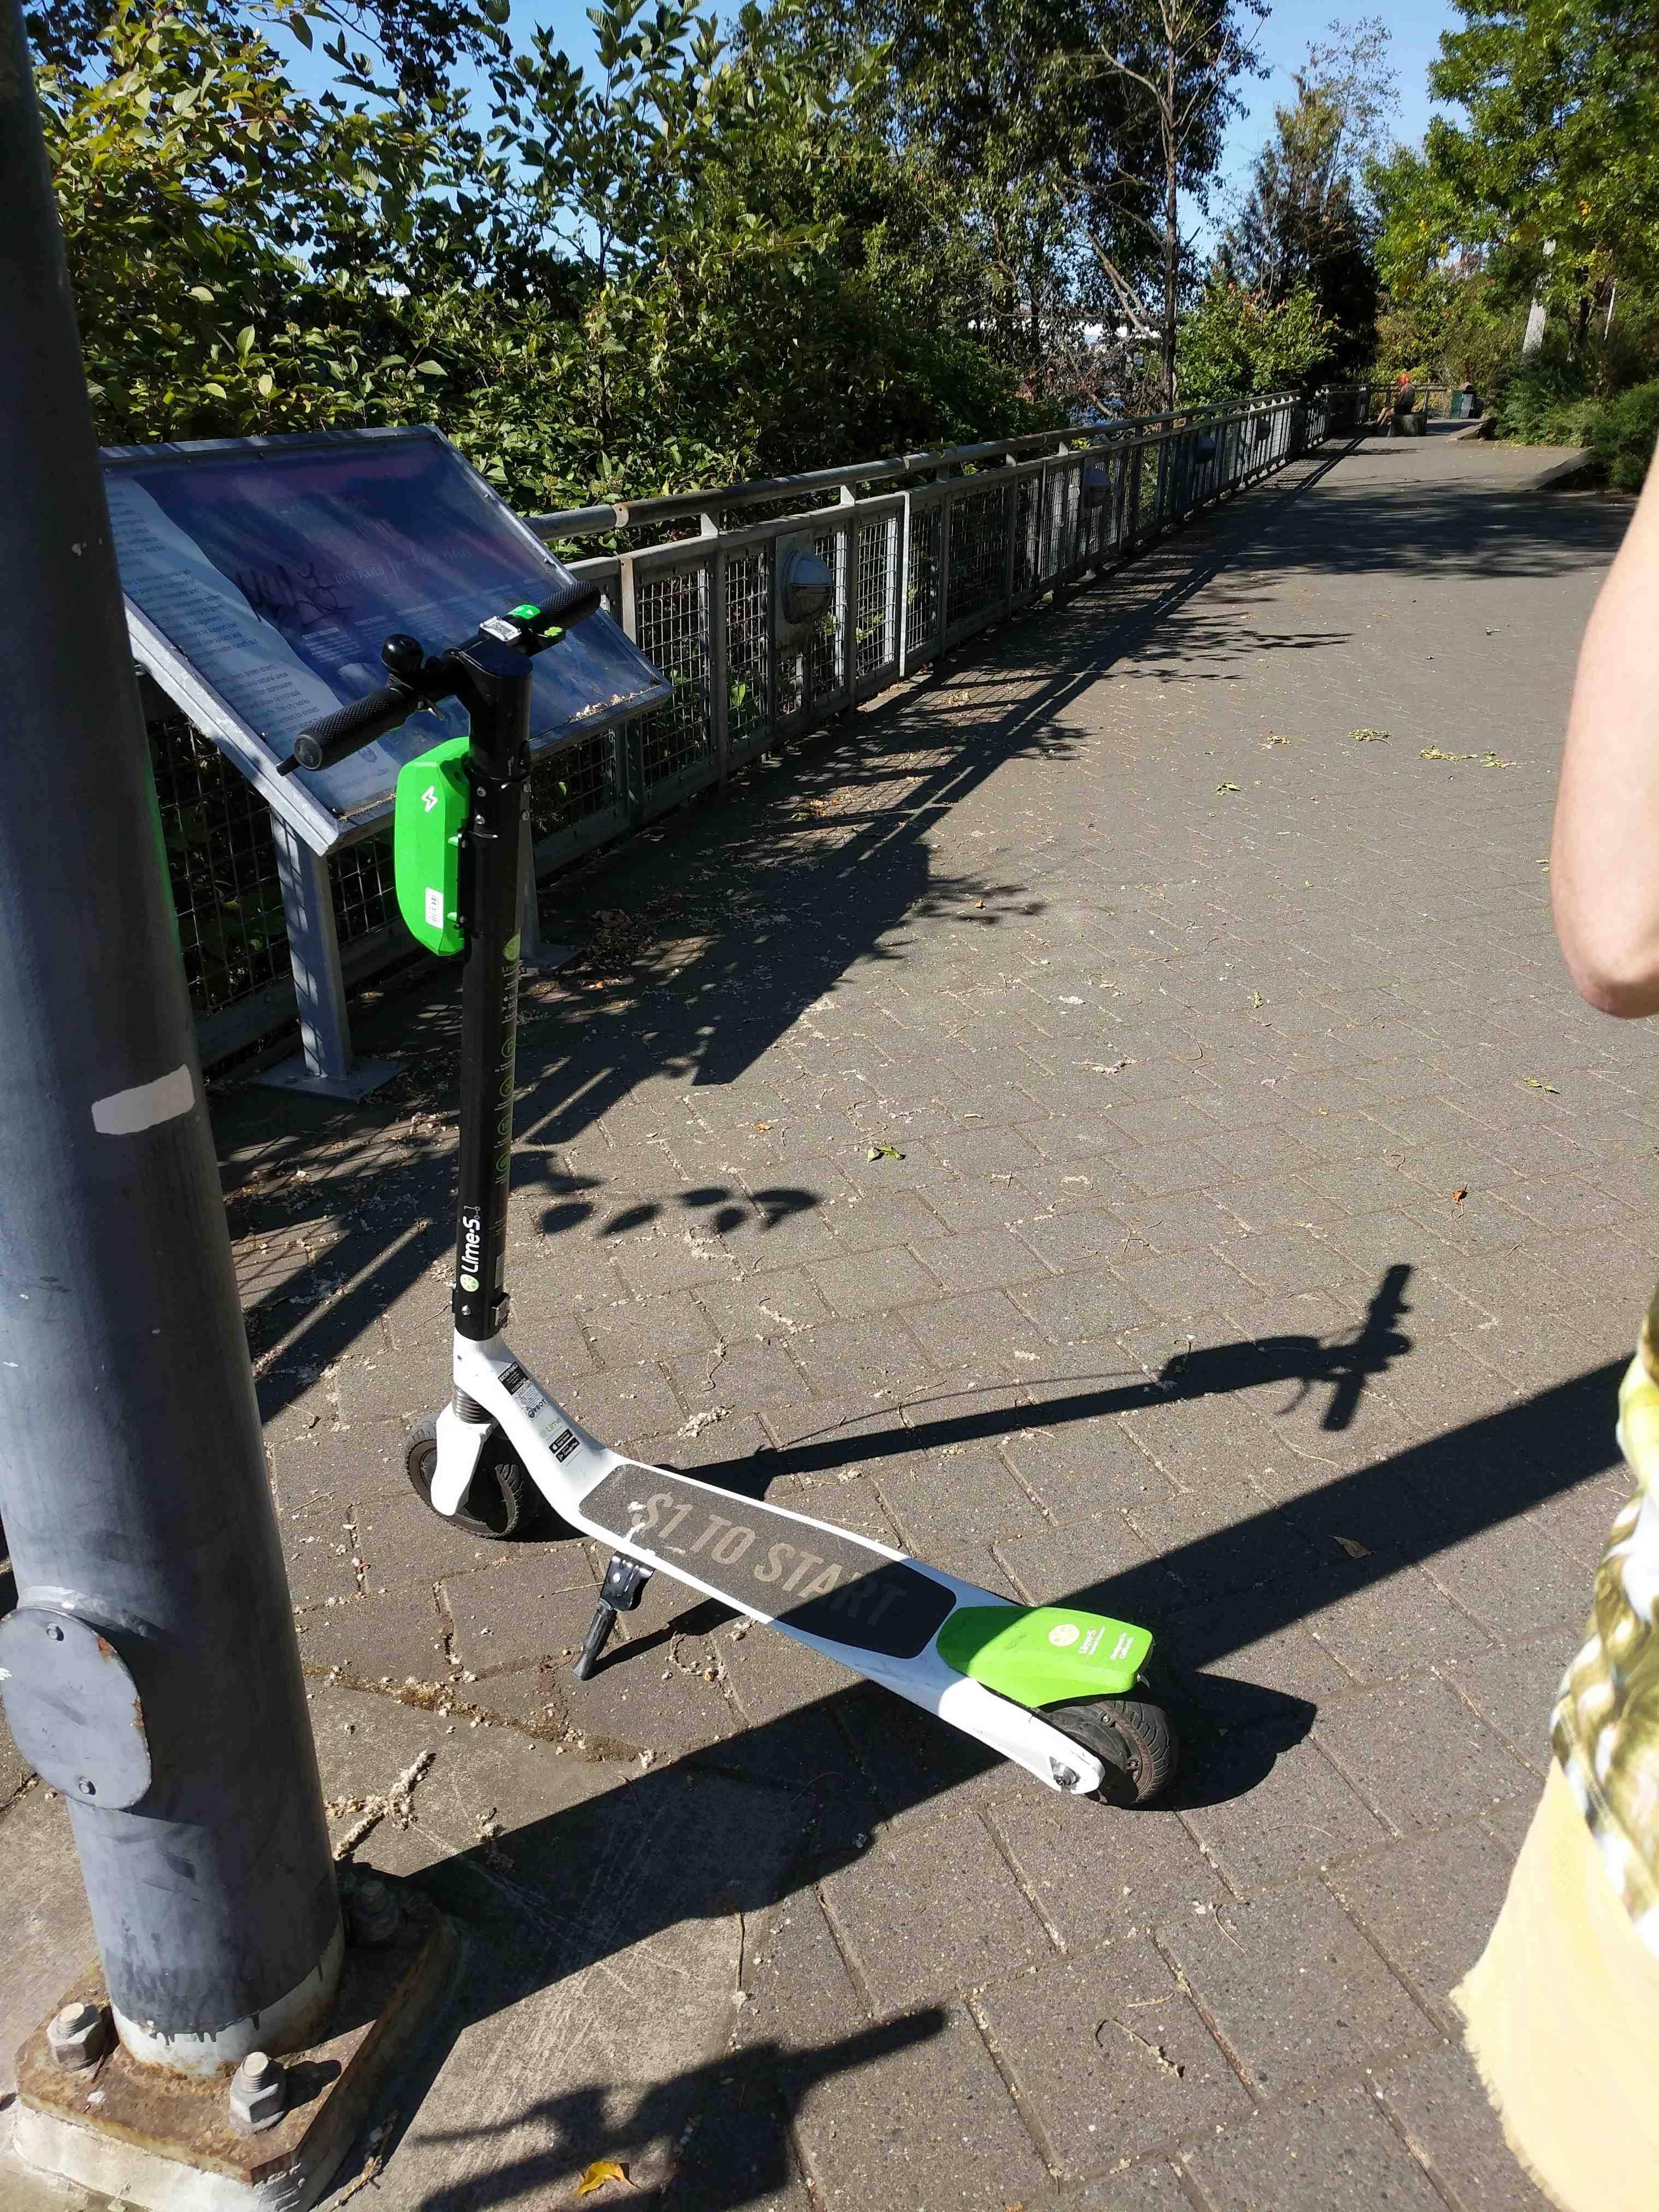scooter: (221, 491, 1258, 1820)
